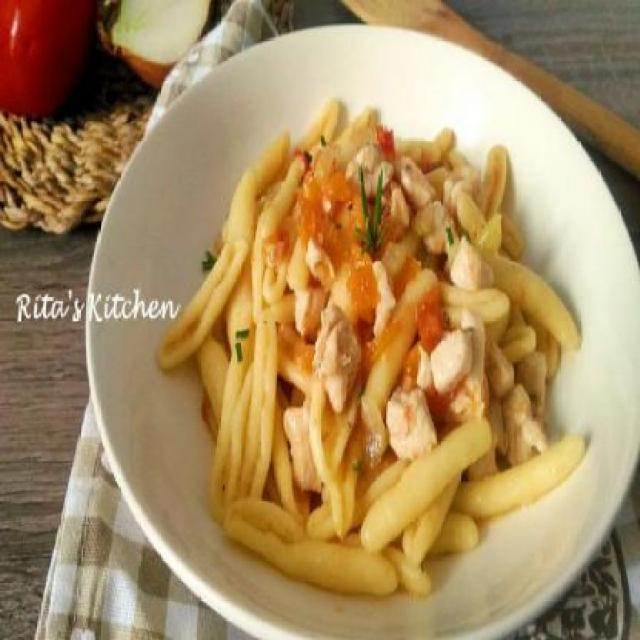Pasta al ragu: (168, 70, 586, 608)
